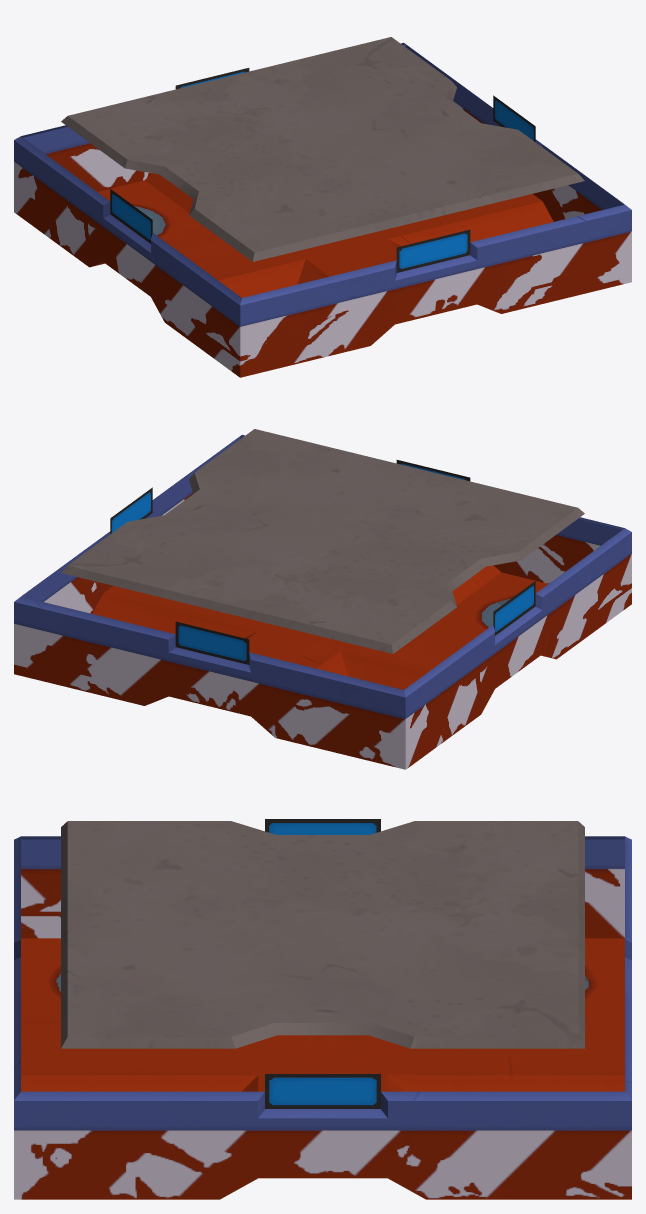
File: obj_factory_building_foundation_01.fbx
3 renders of one model, top to bottom at view 1: azimuth 30°, elevation 25°; view 2: azimuth 150°, elevation 25°; view 3: azimuth 270°, elevation 25°, orthographic. The views are drawn at different scales.
Parts seen in each view (by area): view 1: obj_factory_building_foundation_01_lp; view 2: obj_factory_building_foundation_01_lp; view 3: obj_factory_building_foundation_01_lp.
Boxes of the visible parts, <box> form: obj_factory_building_foundation_01_lp: <box>14,37,631,377</box>; obj_factory_building_foundation_01_lp: <box>14,429,631,769</box>; obj_factory_building_foundation_01_lp: <box>14,819,631,1199</box>.
Size of the model in its own units: 16 by 4 by 16.
